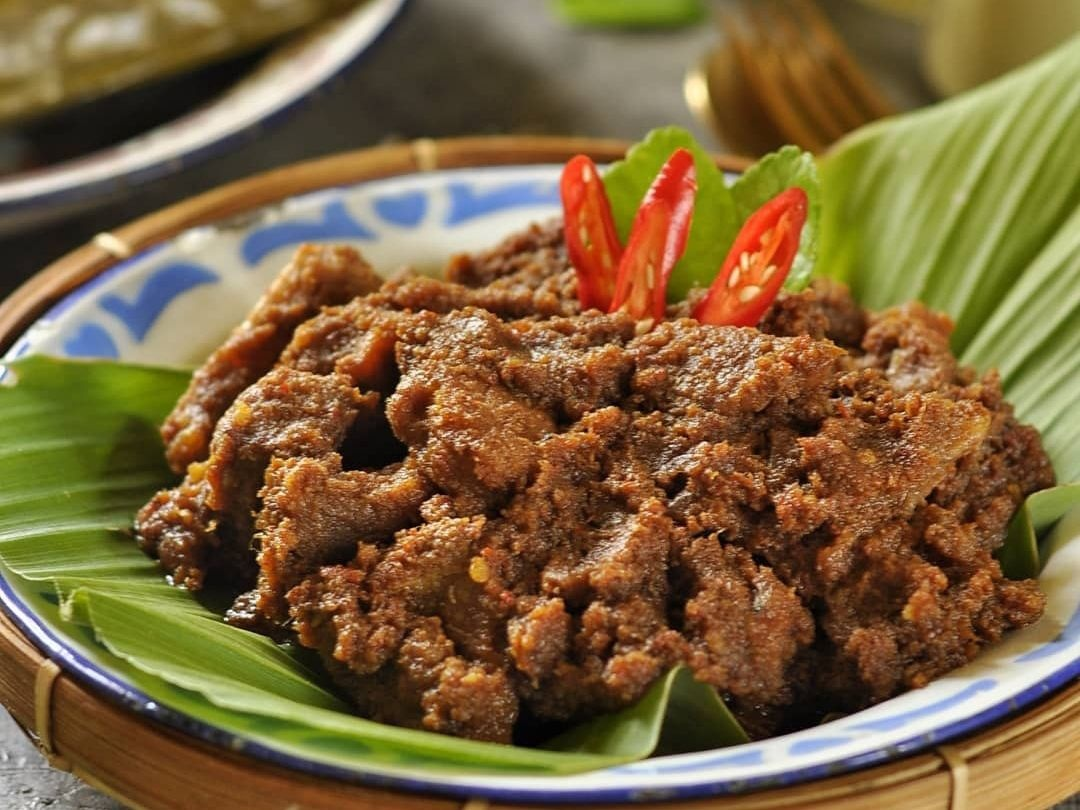rendang: (134, 265, 1055, 738)
